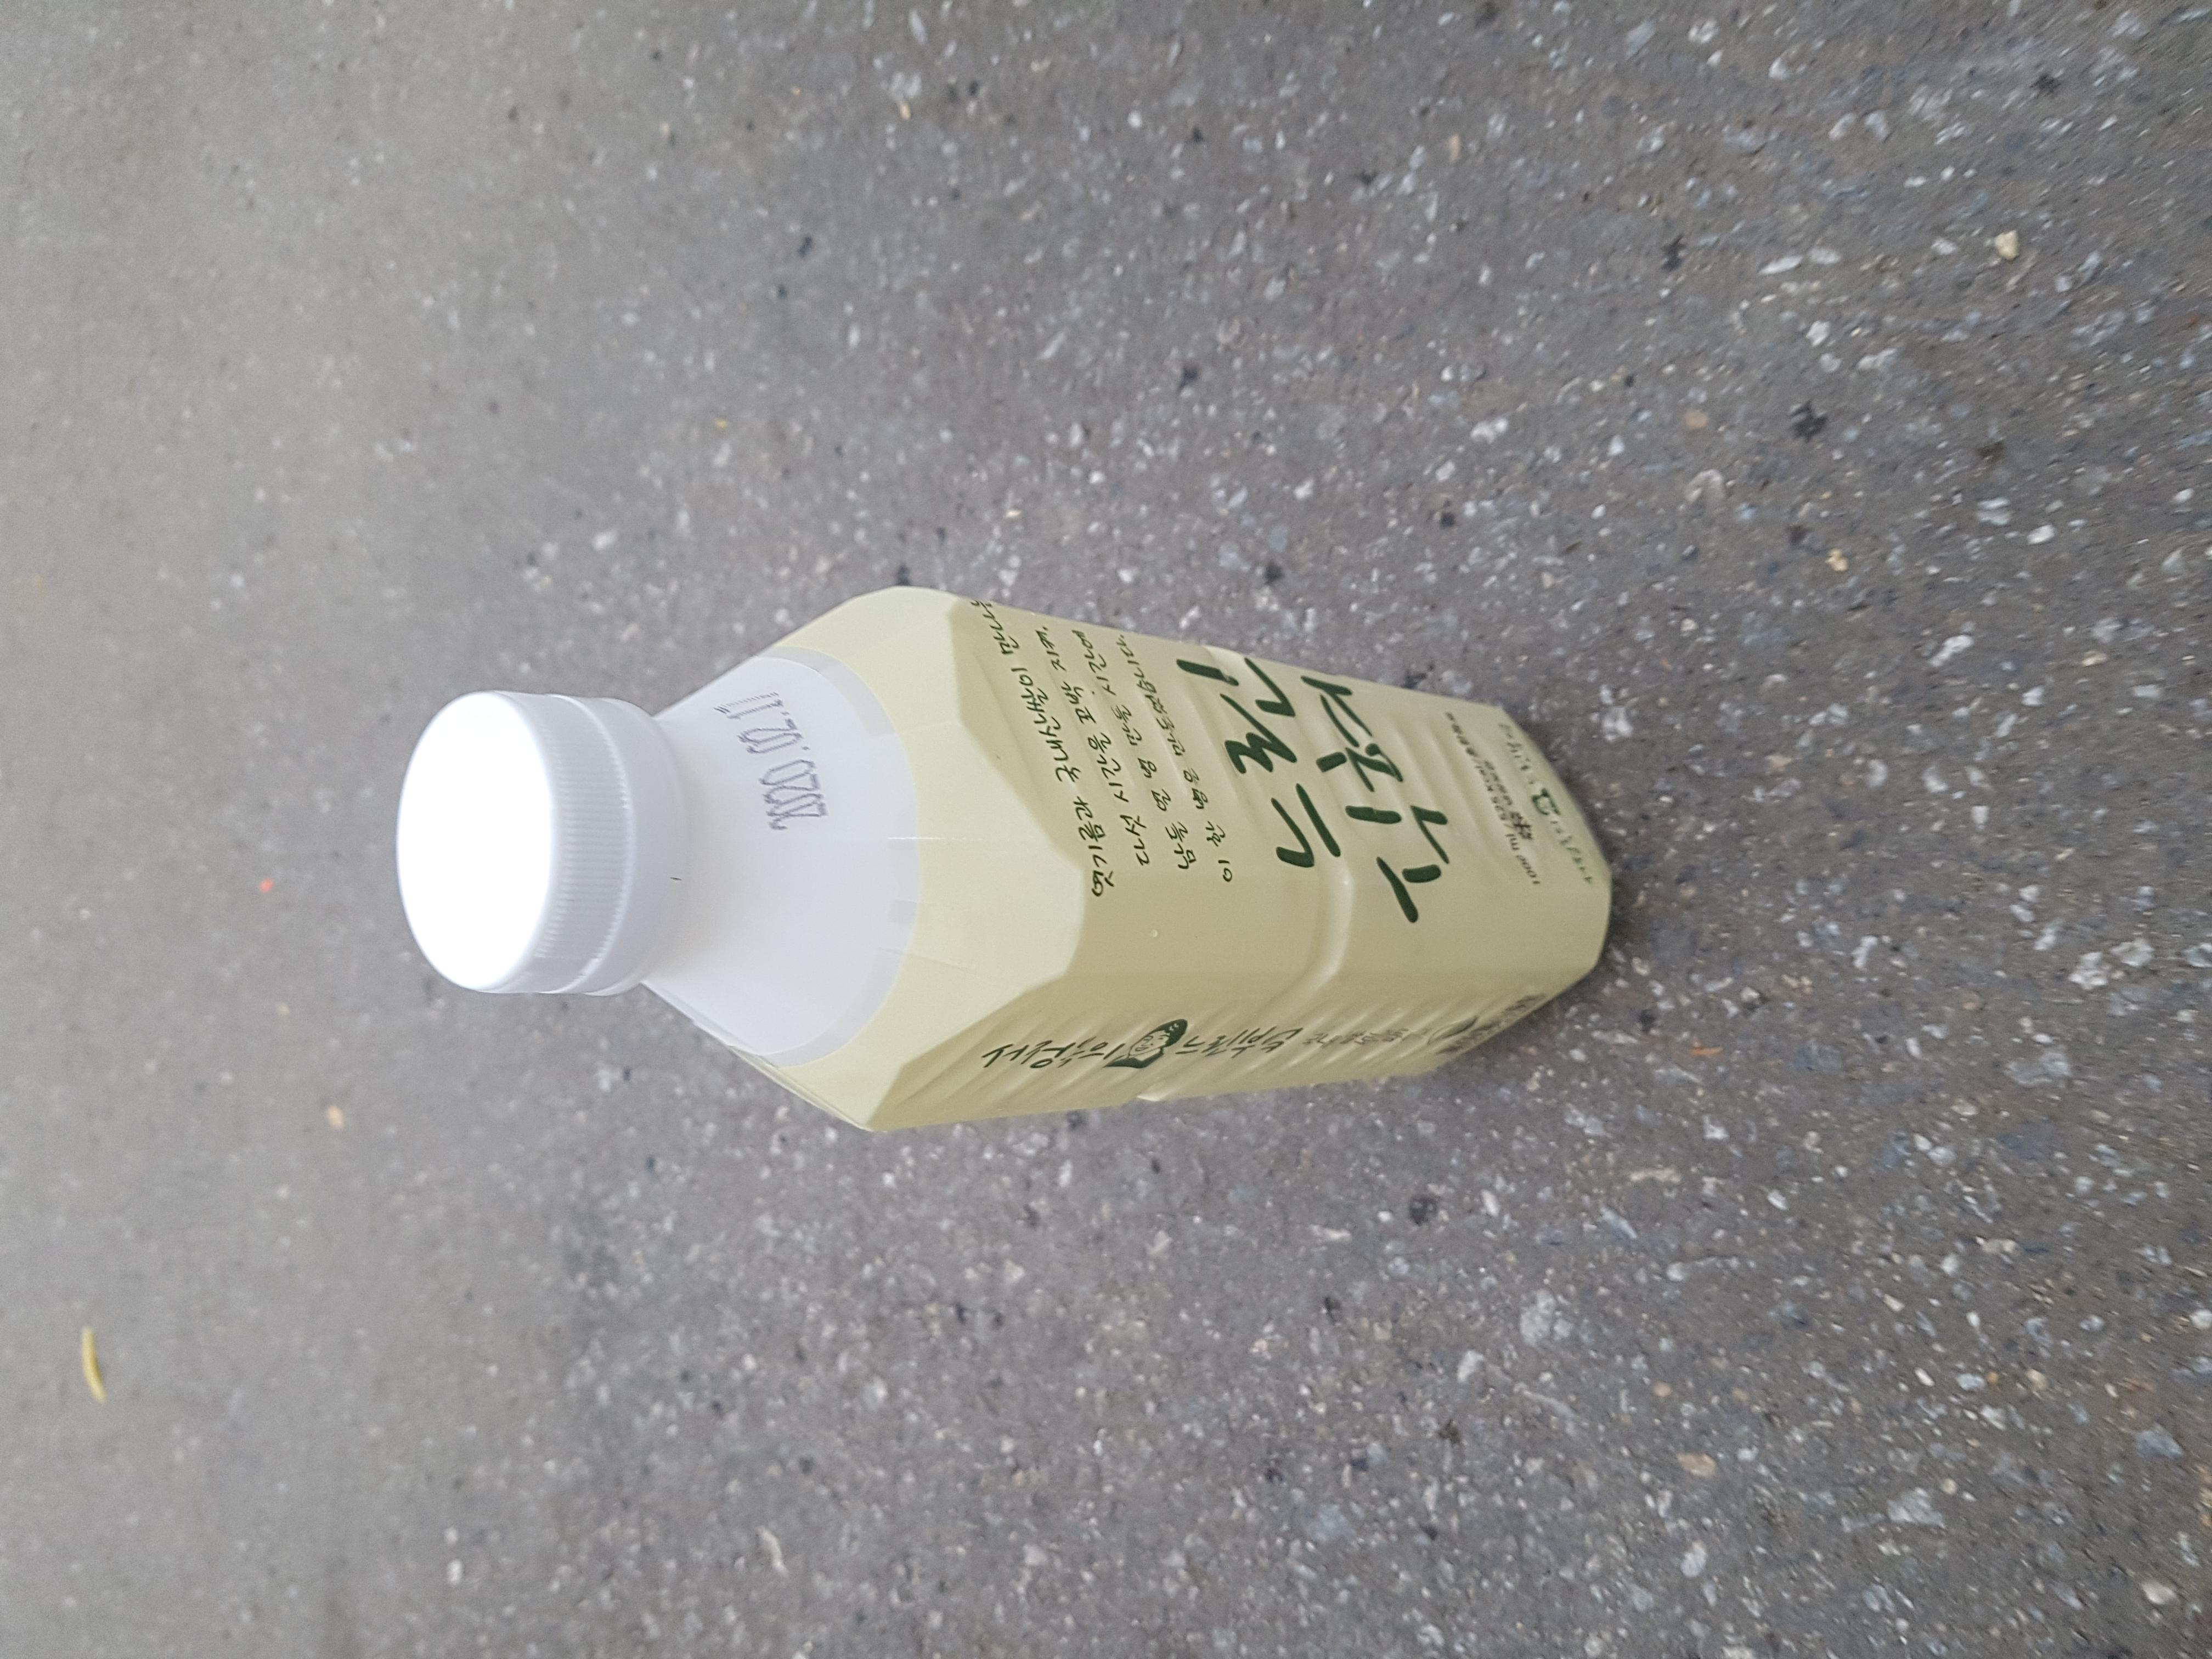bottle: (653, 155, 1430, 1180)
